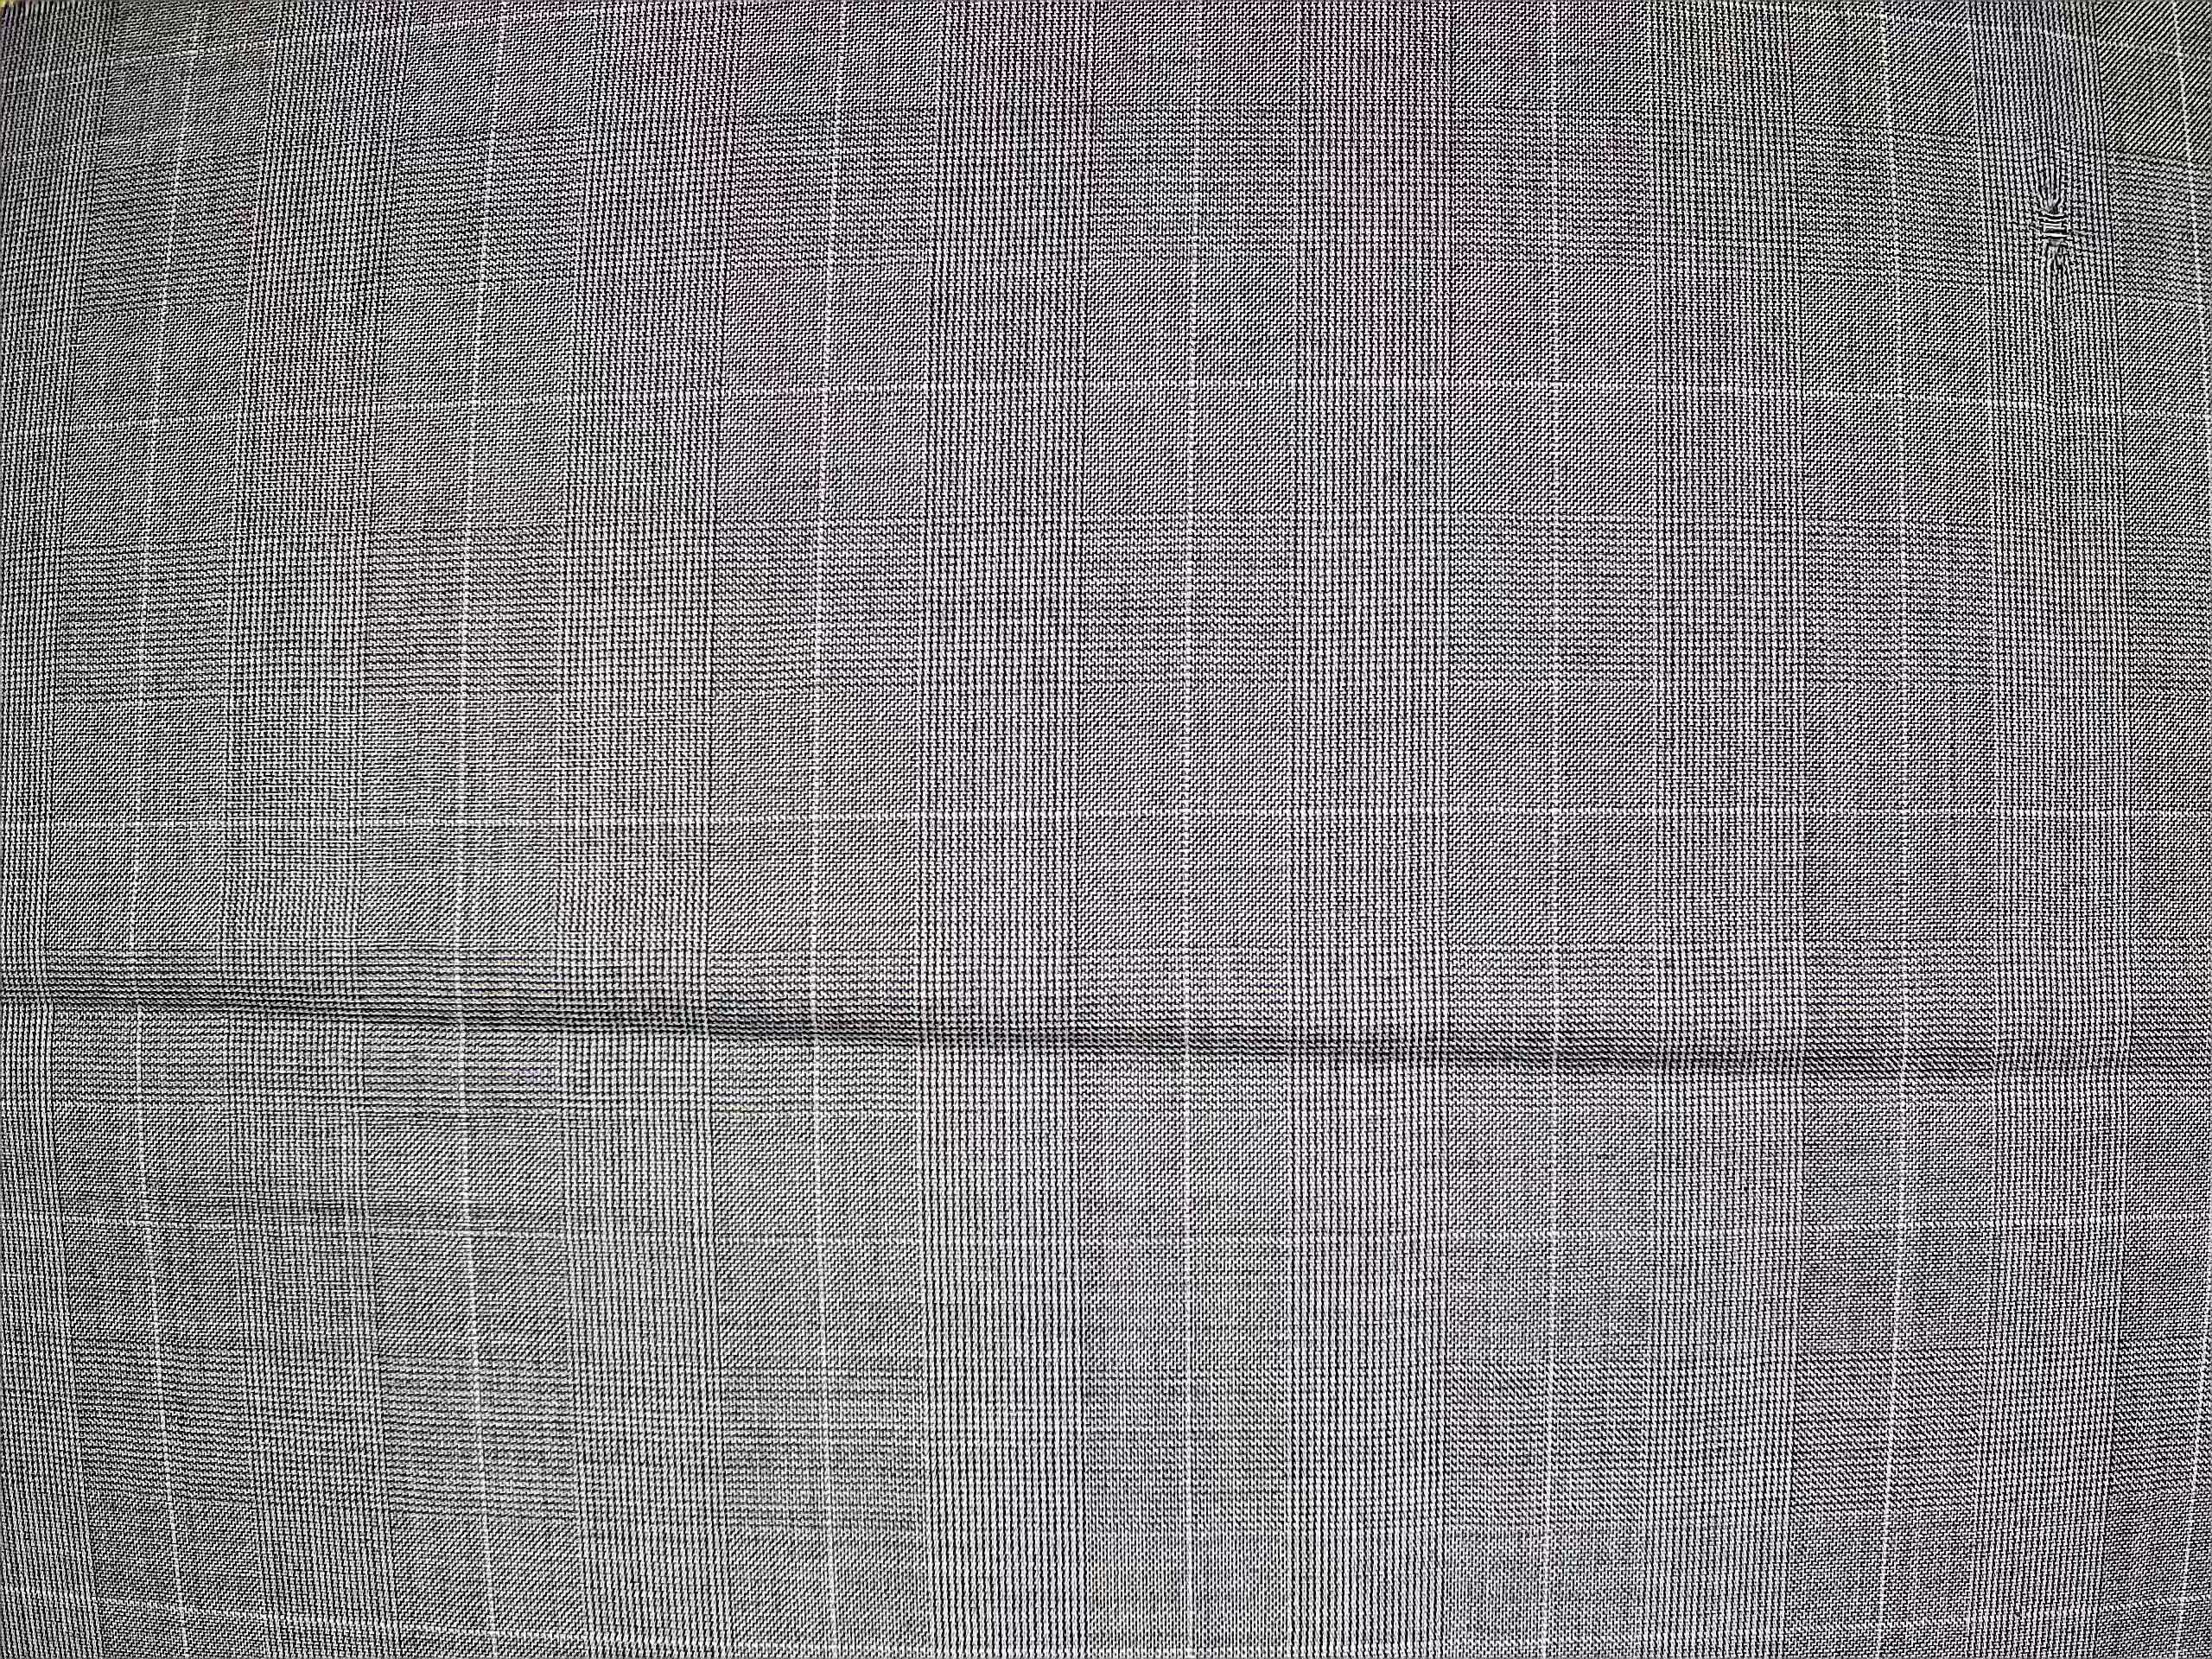rubbing-hole: (2006, 174, 2111, 291)
